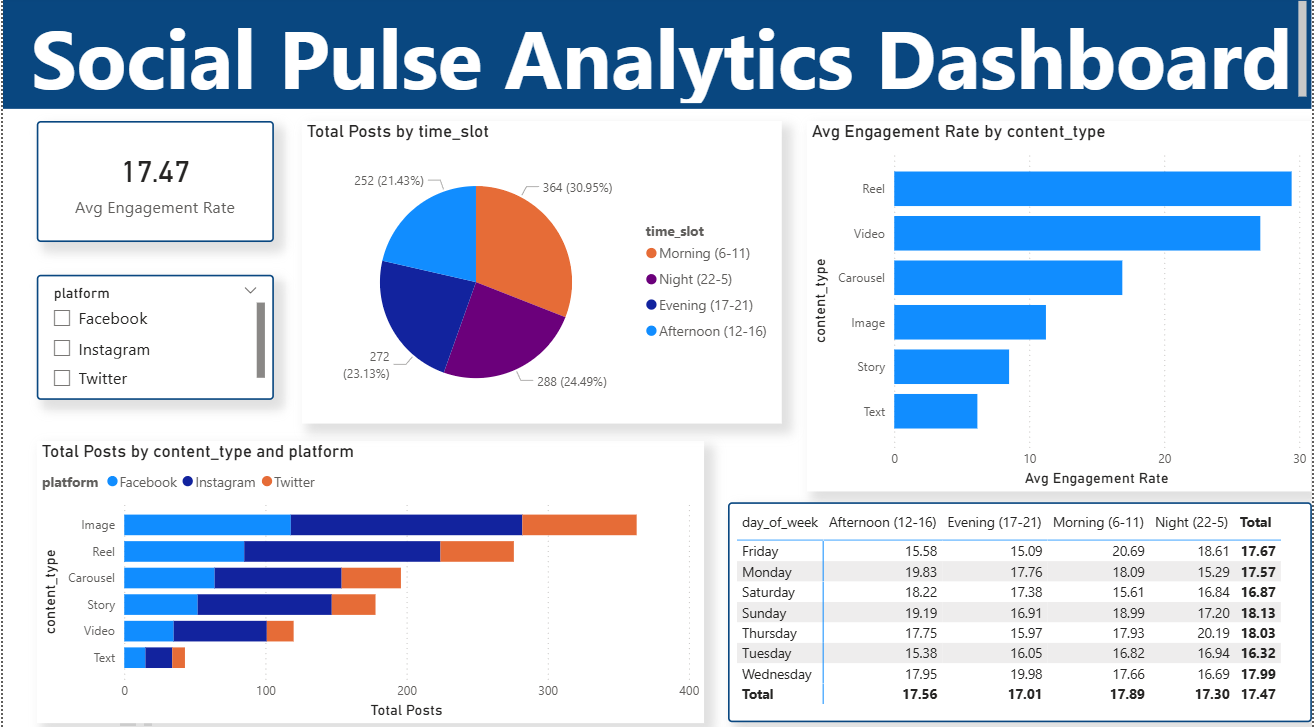

This screenshot's page, from the dashboard's own definition file:
{"tool":"powerbi","page":{"name":"  Page 3","canvas":[1280,720],"ordinal":2},"visuals":[{"type":"textbox","box":[0,0,1280,110],"z":3000},{"type":"card","fields":{"Values":["DateTable.Avg Engagement Rate"]},"box":[32.9,122.1,231.9,118],"z":5000},{"type":"clusteredBarChart","fields":{"Category":["social_media_cleaned.content_type"],"Y":["DateTable.Avg Engagement Rate"]},"box":[786.3,122.1,494,362.3],"z":6000},{"type":"pivotTable","fields":{"Rows":["social_media_cleaned.day_of_week"],"Columns":["social_media_cleaned.time_slot"],"Values":["DateTable.Avg Engagement Rate"]},"box":[709.4,495.4,570.8,215.4],"z":7000},{"type":"barChart","fields":{"Category":["social_media_cleaned.content_type"],"Y":["DateTable.Total Posts"],"Series":["social_media_cleaned.platform"]},"box":[32.9,435,653.2,275.8],"z":7001},{"type":"slicer","fields":{"Values":["social_media_cleaned.platform"]},"box":[32.9,273.1,231.9,122.1],"z":7002},{"type":"pieChart","fields":{"Category":["social_media_cleaned.time_slot"],"Y":["DateTable.Total Posts"]},"box":[292.3,122.1,469.3,296.4],"z":7003}]}

Visuals, with their boxes in screenshot pixels (x1, y1, x2, y2), scaled from the page's 1280x720 canvas onto the 1315x727 screenshot:
textbox: bbox=[0, 0, 1314, 111]
card - DateTable.Avg Engagement Rate: bbox=[34, 123, 272, 242]
clusteredBarChart - social_media_cleaned.content_type x DateTable.Avg Engagement Rate: bbox=[808, 123, 1314, 489]
pivotTable - social_media_cleaned.day_of_week x social_media_cleaned.time_slot: bbox=[729, 500, 1314, 718]
barChart - social_media_cleaned.content_type x DateTable.Total Posts: bbox=[34, 439, 705, 718]
slicer - social_media_cleaned.platform: bbox=[34, 276, 272, 399]
pieChart - social_media_cleaned.time_slot x DateTable.Total Posts: bbox=[300, 123, 782, 423]
